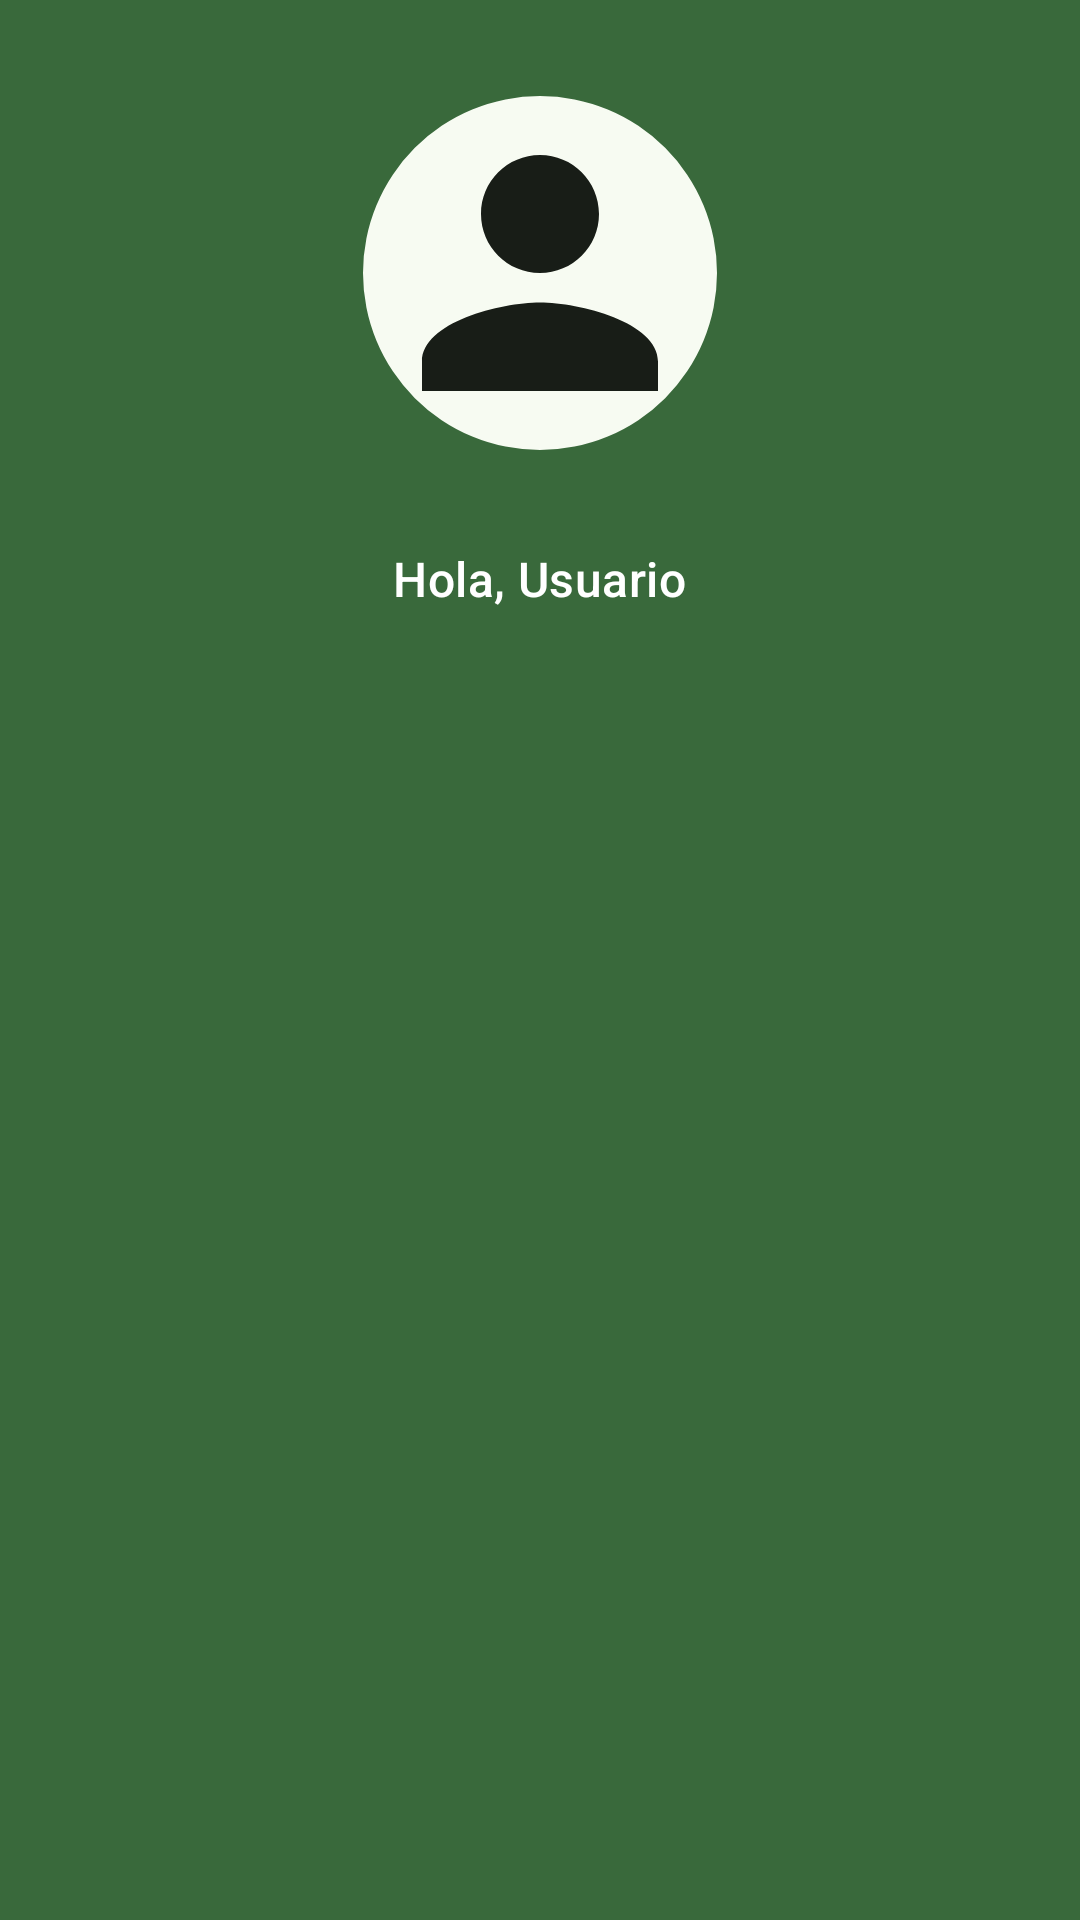

Icons on this 1080w x 1920h Android screen, each with the point to tap as [x,y]:
Imagen de perfil: [540,273]
